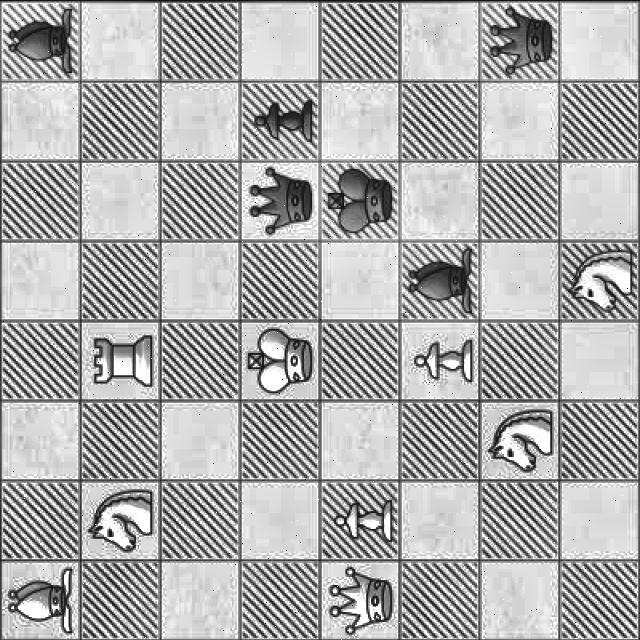black bishop: (406, 245, 476, 319), (8, 4, 76, 78)
black queen: (484, 4, 561, 77), (244, 163, 316, 238)
white bishop: (6, 560, 80, 632)
white king: (243, 326, 320, 397)
white pawn: (407, 332, 477, 390), (327, 491, 395, 548), (250, 90, 316, 148)
white queen: (322, 566, 396, 634)
white rook: (90, 322, 156, 394)
whiteknight: (478, 406, 555, 478), (565, 247, 639, 319)
